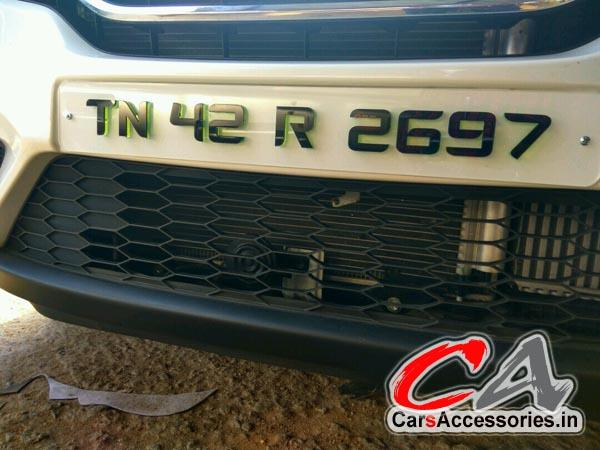licence-plate: (59, 79, 570, 171)
